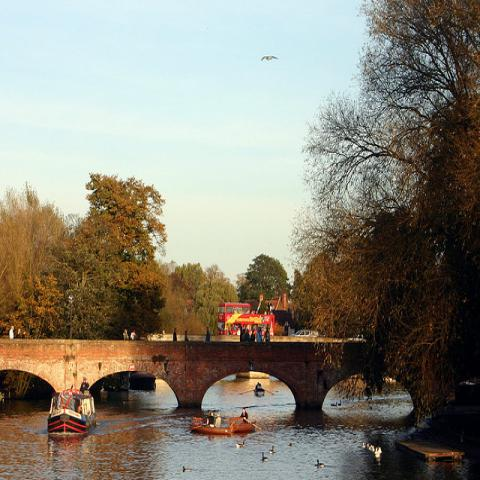bus: (218, 303, 274, 337)
car: (290, 329, 319, 337), (348, 334, 366, 342)
